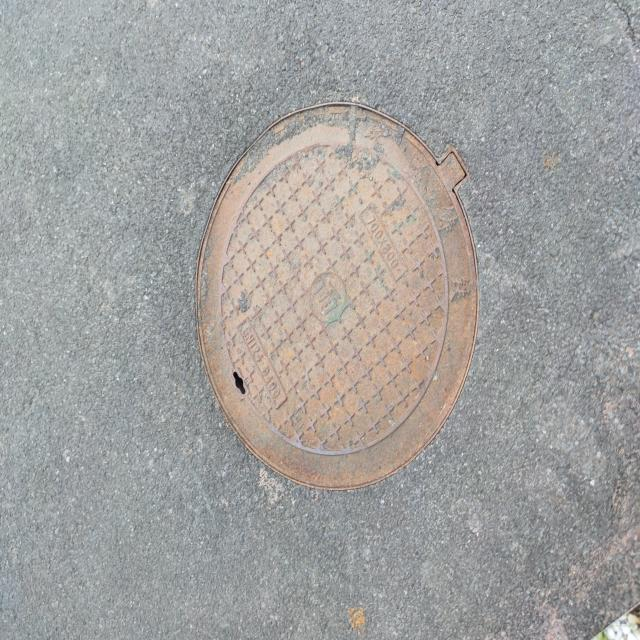Good: (194, 97, 486, 495)
